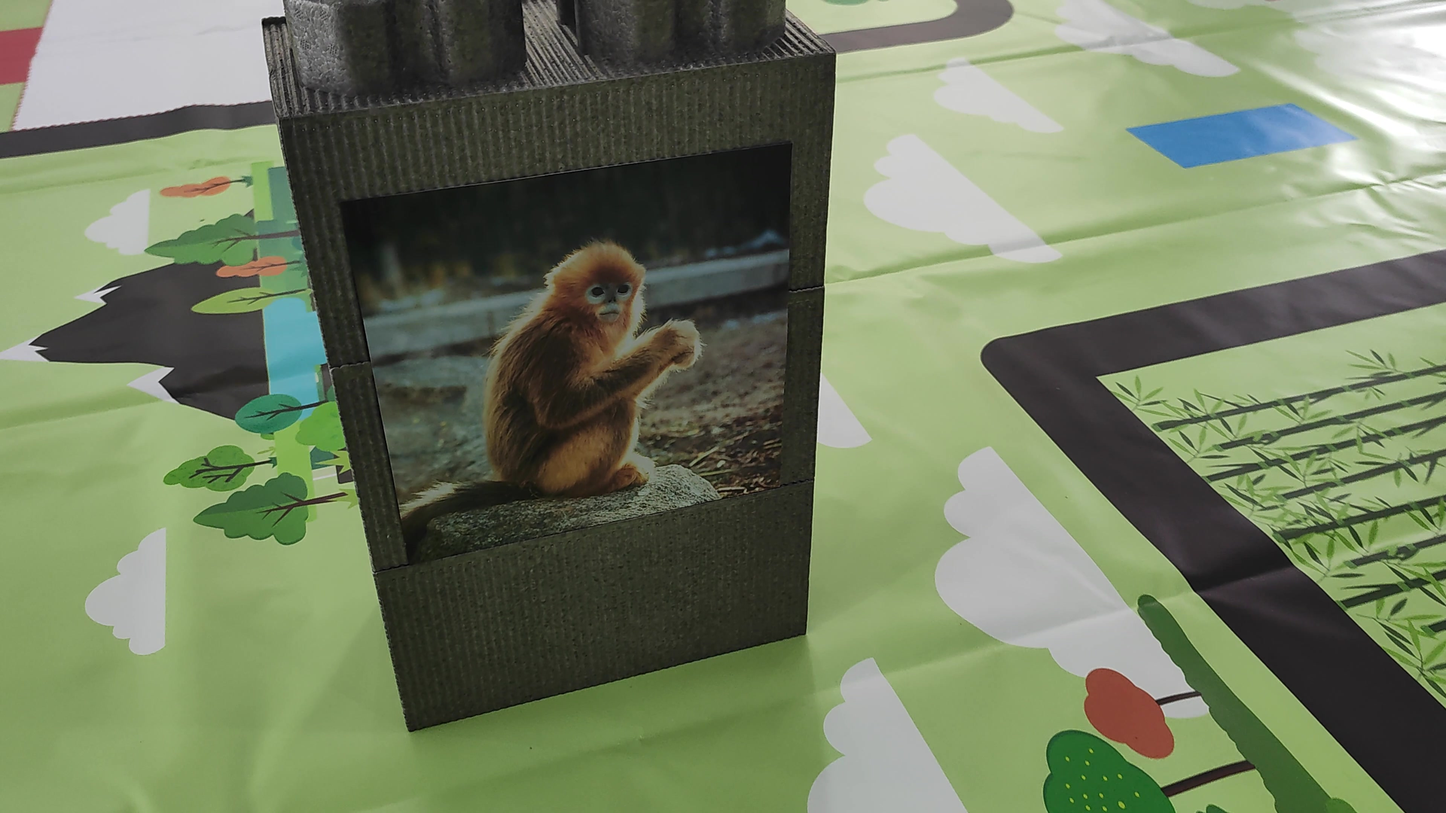monkey: (383, 239, 723, 544)
